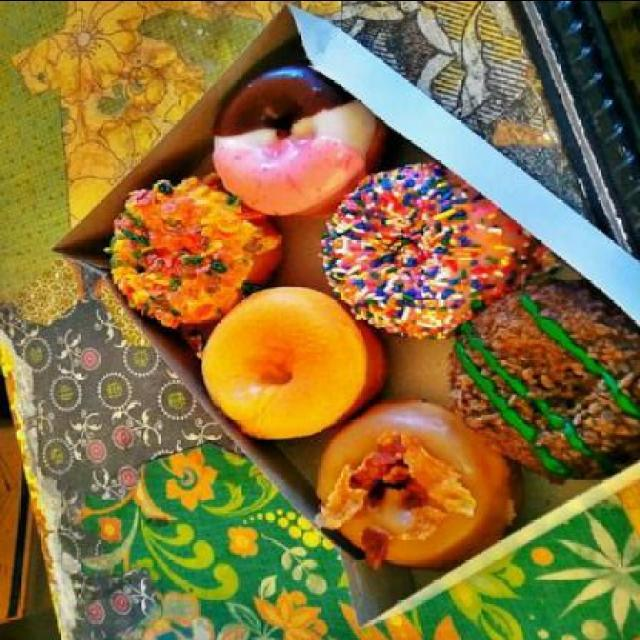Donuts: (100, 79, 638, 570)
